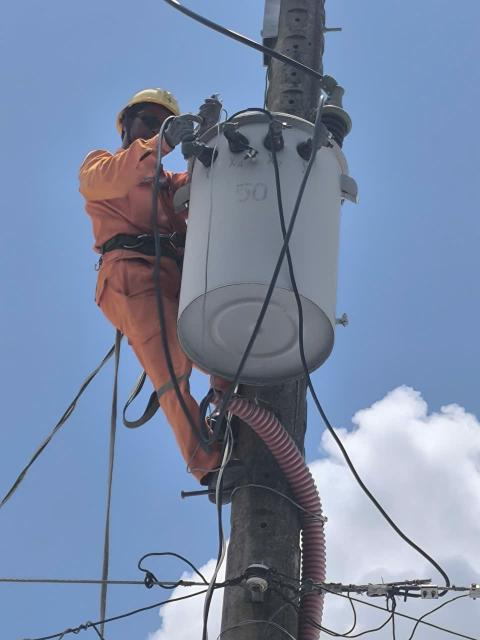gloves: (153, 111, 203, 152)
harness: (82, 223, 207, 268)
helmet: (91, 78, 199, 132)
shoes: (202, 453, 246, 515)
